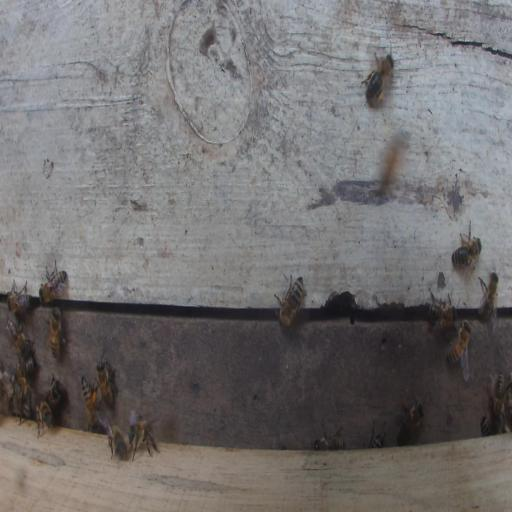bee: (378, 133, 407, 194), (273, 273, 305, 327), (451, 219, 481, 269), (39, 257, 68, 306), (365, 53, 394, 102), (129, 415, 159, 461), (396, 398, 425, 444), (428, 289, 456, 331), (447, 320, 471, 366), (478, 270, 499, 320), (81, 375, 99, 433), (6, 318, 29, 357), (6, 279, 29, 317), (107, 424, 130, 461), (96, 359, 113, 407), (35, 400, 53, 439), (45, 372, 62, 411), (50, 306, 61, 359), (13, 374, 31, 400), (314, 434, 345, 449), (10, 395, 31, 417), (494, 373, 504, 419), (368, 429, 386, 448), (16, 359, 35, 377), (480, 414, 492, 437)
